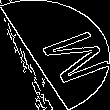M_SW: (12, 23, 98, 87)
